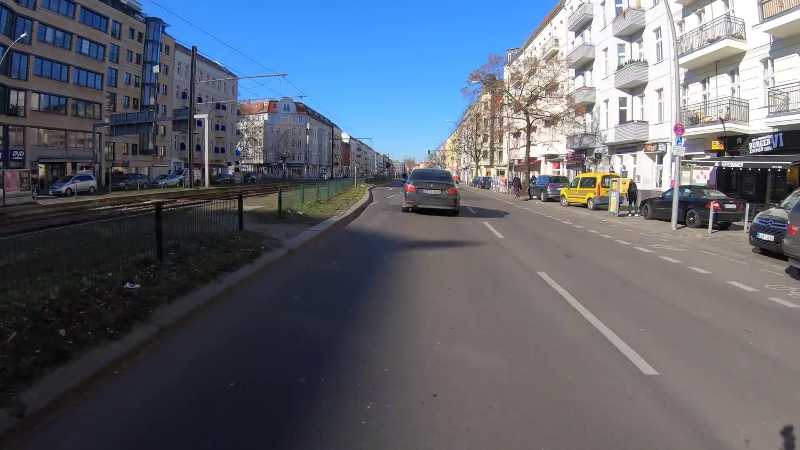Plate: (755, 228, 775, 241), (420, 187, 442, 196), (723, 202, 737, 209)
